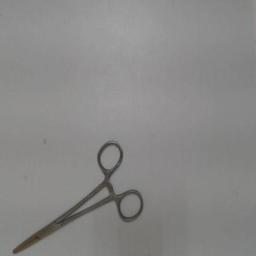Mayo Needle Holder: (4, 132, 148, 254)
